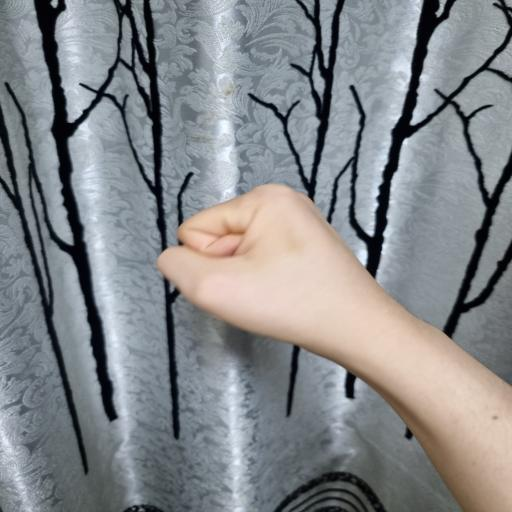Rock: (156, 184, 374, 346)
